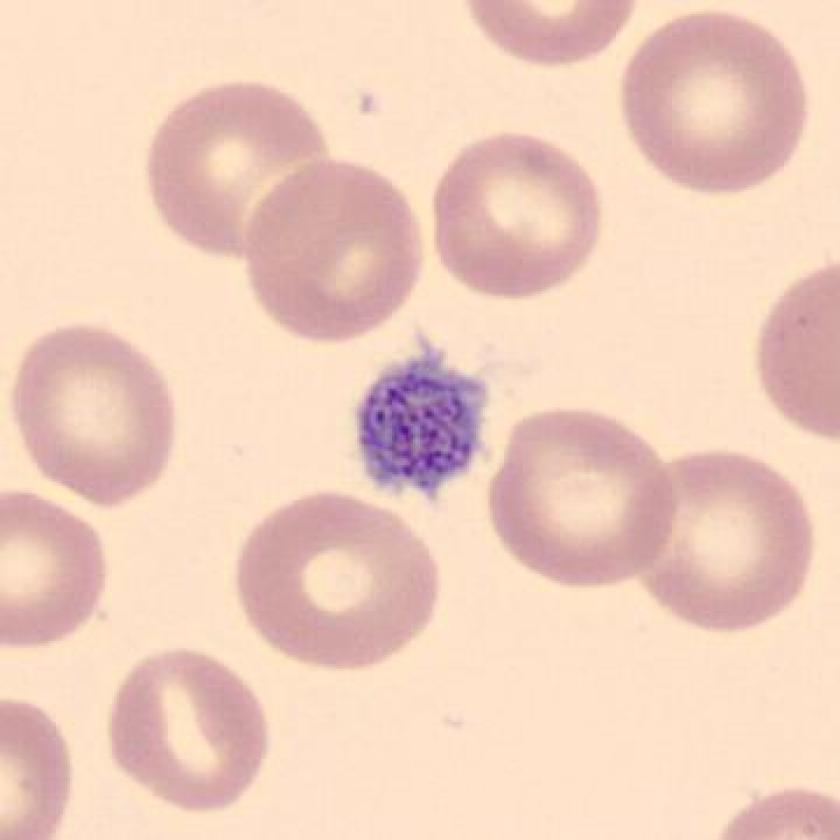platelets: (349, 337, 505, 506)
